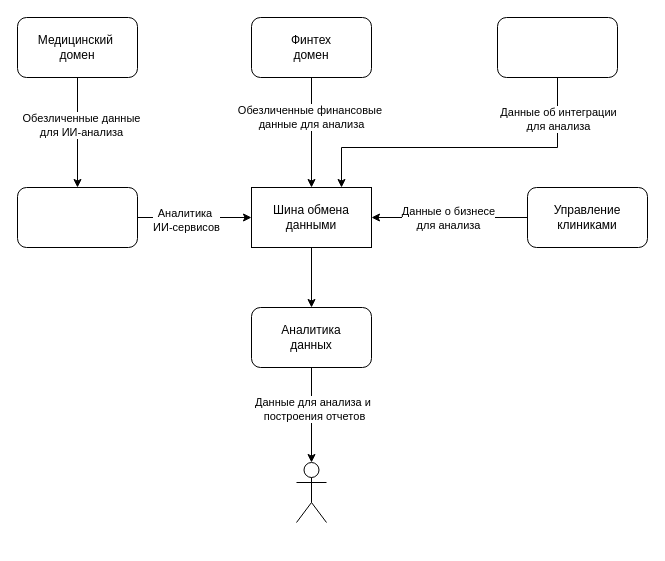
The diagram is 665 pixels wide and 561 high, and some of its shapes have lost their labels. The shapes that lost their labels are listed below. From the top down, each one's box as (x1, y1, x2, y2) in pixels, then its label:
(496, 16, 618, 78): Партнерские системы
(16, 186, 138, 248): ИИ сервисы
(296, 462, 326, 522): Аналитик
